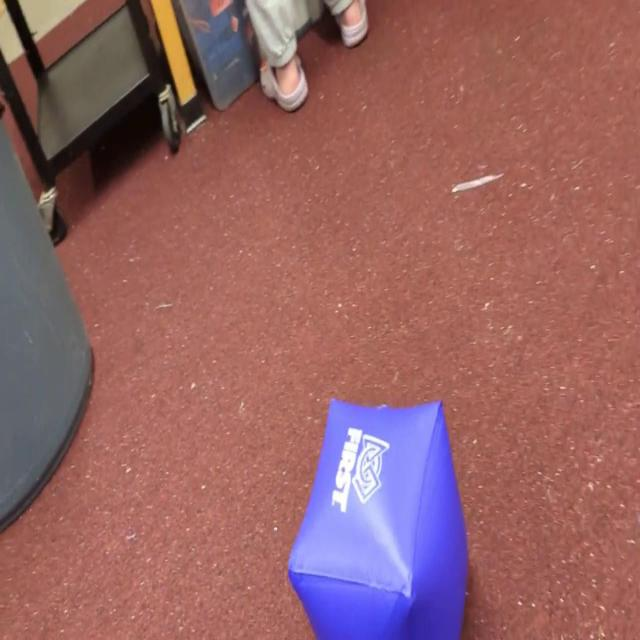frc_cube: (286, 393, 468, 640)
